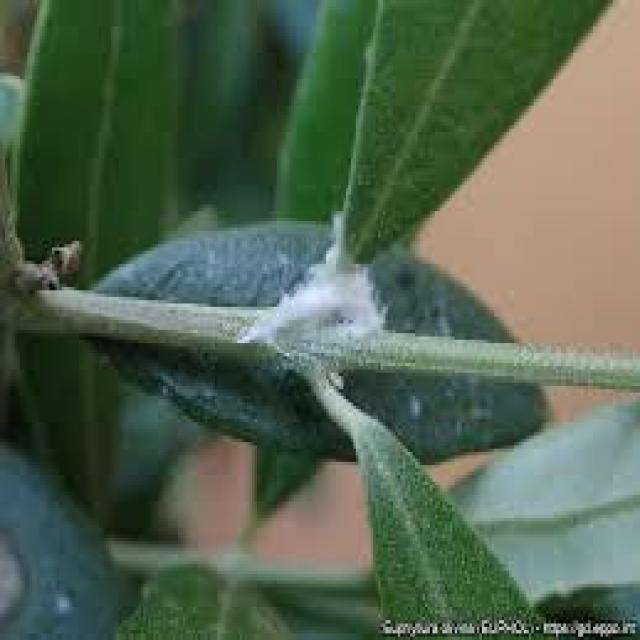Psyllid: (242, 212, 413, 346)
